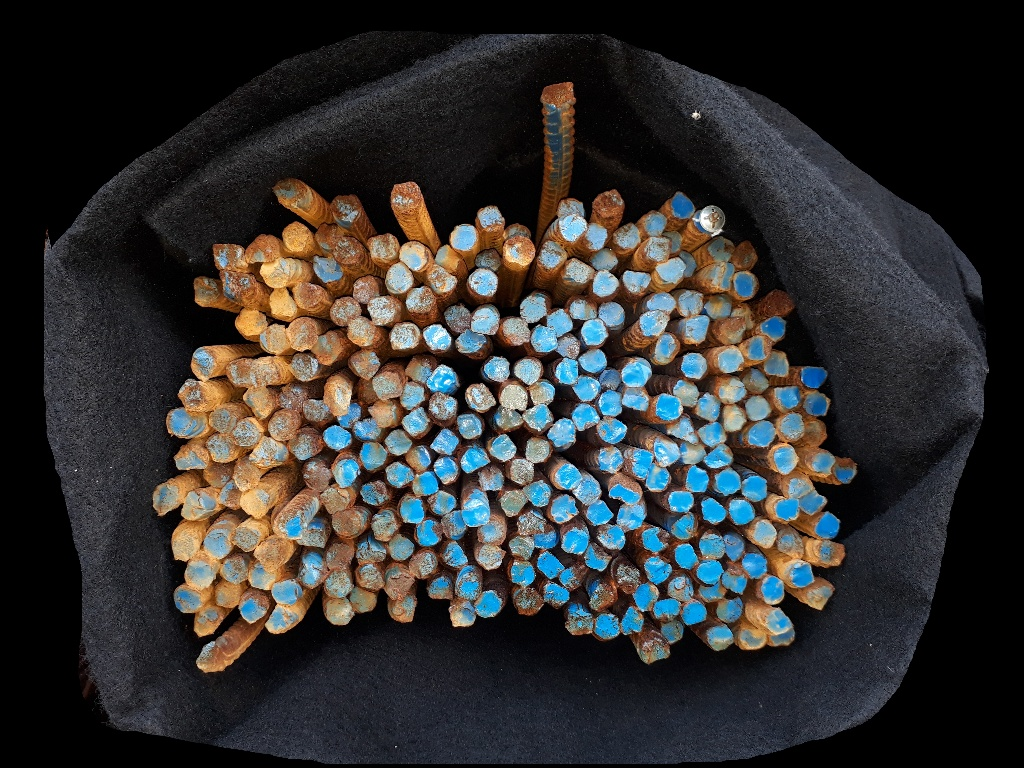dipstick: (608, 473, 642, 504), (288, 318, 317, 350), (252, 440, 288, 465), (541, 82, 573, 110), (183, 489, 211, 521), (214, 244, 247, 271), (220, 271, 253, 298), (192, 347, 218, 381), (284, 222, 312, 253), (152, 485, 180, 516), (246, 234, 276, 262), (236, 309, 267, 336), (274, 180, 307, 205), (246, 387, 272, 418), (390, 324, 422, 349), (504, 237, 532, 265), (180, 382, 207, 411), (325, 544, 352, 573), (460, 447, 489, 474), (428, 266, 458, 292), (296, 431, 322, 461), (331, 195, 359, 222), (423, 324, 450, 352), (401, 408, 429, 435), (431, 428, 459, 455), (267, 607, 295, 634), (352, 352, 378, 381), (375, 371, 401, 400), (270, 411, 296, 440), (207, 435, 236, 461), (747, 421, 776, 447), (593, 190, 623, 215), (666, 419, 697, 443), (331, 298, 359, 324), (241, 490, 267, 518), (549, 418, 575, 446), (764, 290, 793, 315), (232, 420, 259, 446), (324, 572, 351, 598), (516, 589, 543, 615), (590, 585, 617, 611), (407, 287, 435, 312), (289, 354, 317, 379), (250, 359, 278, 384), (332, 511, 360, 536), (193, 277, 217, 306), (270, 287, 294, 316), (622, 364, 651, 388), (641, 639, 670, 663), (320, 332, 341, 365), (369, 234, 395, 260), (352, 274, 378, 300), (304, 463, 330, 489), (468, 384, 494, 410), (186, 563, 212, 589), (551, 495, 577, 521), (449, 602, 475, 628), (645, 556, 671, 582), (262, 324, 287, 351), (502, 319, 529, 344), (361, 443, 386, 470), (430, 392, 455, 419), (525, 406, 552, 431), (220, 557, 247, 582), (780, 415, 805, 442), (617, 505, 644, 530), (314, 256, 342, 280), (174, 448, 206, 469), (357, 566, 385, 590), (386, 574, 414, 598), (655, 437, 679, 465), (598, 419, 626, 443), (236, 460, 258, 490), (450, 224, 475, 250), (336, 239, 362, 264), (334, 461, 360, 486), (678, 290, 703, 316), (717, 318, 743, 343), (716, 469, 741, 495), (536, 553, 562, 578), (587, 545, 612, 571), (778, 533, 803, 559), (815, 512, 840, 538), (401, 242, 425, 269), (260, 262, 287, 286), (350, 318, 374, 345), (717, 349, 744, 373), (361, 482, 389, 505), (272, 581, 300, 604), (774, 447, 797, 475), (227, 357, 249, 386), (704, 446, 733, 468), (393, 182, 418, 207), (406, 357, 431, 382), (372, 402, 397, 427), (387, 462, 412, 487), (417, 520, 442, 545), (720, 378, 745, 403), (599, 447, 624, 472), (476, 592, 501, 617), (707, 625, 732, 650), (541, 243, 565, 269), (520, 297, 546, 321), (387, 265, 411, 291), (368, 299, 394, 323), (429, 367, 455, 391), (485, 356, 509, 382), (515, 359, 541, 383), (273, 515, 299, 539), (256, 544, 282, 568), (411, 552, 437, 576), (684, 316, 710, 340), (583, 320, 607, 346), (655, 395, 681, 419), (681, 353, 705, 379), (491, 435, 515, 461), (477, 545, 503, 569), (562, 530, 588, 554), (599, 525, 625, 549), (643, 528, 669, 552), (730, 499, 754, 525), (316, 225, 343, 248), (280, 384, 303, 411), (586, 502, 613, 525), (511, 561, 534, 588), (800, 366, 828, 388), (493, 409, 522, 430), (357, 543, 386, 564), (168, 410, 193, 434), (386, 431, 411, 455), (351, 587, 376, 611), (742, 476, 766, 501), (478, 466, 503, 490), (595, 615, 619, 640), (766, 608, 791, 632), (699, 535, 724, 559), (702, 498, 726, 523), (472, 271, 498, 294), (593, 270, 616, 296), (175, 589, 201, 612), (686, 466, 709, 492), (574, 405, 597, 431), (510, 459, 533, 485), (567, 612, 593, 635), (697, 561, 723, 584), (753, 521, 776, 547), (209, 409, 236, 431), (324, 427, 351, 449), (326, 602, 353, 624), (428, 493, 455, 515), (733, 241, 755, 268), (698, 394, 720, 421), (762, 577, 784, 604), (564, 261, 592, 282), (517, 514, 545, 535), (615, 224, 639, 248), (446, 305, 470, 329), (501, 386, 525, 410), (764, 352, 788, 376), (501, 492, 525, 516), (557, 465, 581, 489), (472, 310, 497, 333), (533, 327, 556, 352), (548, 310, 571, 335), (529, 382, 554, 405), (206, 533, 229, 558), (196, 648, 221, 671), (400, 498, 423, 523), (413, 473, 438, 496), (705, 295, 730, 318), (747, 396, 770, 421), (462, 503, 487, 526), (543, 584, 568, 607), (634, 585, 657, 610), (718, 598, 741, 623), (821, 541, 844, 566), (805, 420, 827, 446), (442, 512, 464, 538), (478, 522, 504, 544), (457, 331, 484, 352), (299, 561, 320, 588), (622, 271, 649, 292), (480, 206, 504, 229), (402, 384, 425, 408), (458, 415, 481, 439), (233, 527, 257, 550), (372, 515, 395, 539), (390, 536, 414, 559), (641, 312, 665, 335), (599, 303, 623, 326), (525, 439, 549, 462), (576, 480, 599, 504), (620, 610, 643, 634), (743, 554, 766, 578), (560, 217, 585, 239), (295, 284, 320, 306), (326, 390, 348, 415), (204, 465, 229, 487), (555, 358, 577, 383), (323, 489, 348, 511), (671, 192, 693, 217), (655, 336, 677, 361), (581, 350, 606, 372), (676, 381, 698, 406), (675, 544, 697, 569), (354, 419, 380, 440), (623, 391, 649, 412), (835, 458, 856, 484), (618, 564, 638, 591), (653, 600, 681, 619), (407, 447, 430, 470), (173, 538, 196, 561), (437, 247, 459, 271), (695, 210, 717, 234), (761, 317, 785, 339), (576, 377, 598, 401), (600, 392, 622, 416), (746, 369, 768, 393), (775, 386, 799, 408), (647, 466, 669, 490), (527, 482, 549, 506), (683, 601, 707, 623), (723, 572, 747, 594), (239, 602, 264, 623), (647, 237, 668, 262), (657, 261, 682, 282), (774, 498, 799, 519), (249, 569, 275, 589), (632, 452, 652, 478), (570, 300, 597, 319), (725, 535, 744, 562), (457, 576, 479, 599), (304, 400, 328, 421), (298, 529, 326, 547), (392, 600, 416, 621), (804, 394, 828, 415), (701, 424, 725, 445), (669, 491, 693, 512), (587, 224, 607, 249), (745, 338, 770, 358), (724, 406, 744, 431), (535, 524, 555, 549), (793, 562, 813, 587), (714, 265, 733, 291), (648, 293, 675, 311), (558, 336, 580, 358), (215, 585, 237, 607), (710, 239, 732, 261), (643, 211, 663, 235), (428, 579, 452, 599), (444, 545, 464, 569), (814, 585, 834, 609), (592, 252, 618, 270), (733, 306, 755, 327), (476, 248, 499, 268), (680, 444, 704, 463), (669, 578, 693, 597), (558, 197, 583, 215), (740, 630, 765, 648), (812, 454, 833, 475), (510, 537, 532, 557), (661, 622, 683, 642), (356, 380, 375, 403), (735, 275, 754, 298), (221, 484, 238, 509), (801, 497, 826, 514), (561, 570, 582, 590), (700, 585, 726, 601), (195, 617, 216, 636), (601, 370, 620, 389), (342, 405, 359, 426), (789, 480, 810, 496), (773, 632, 795, 647), (505, 224, 530, 237), (684, 252, 695, 277), (669, 232, 680, 254)
